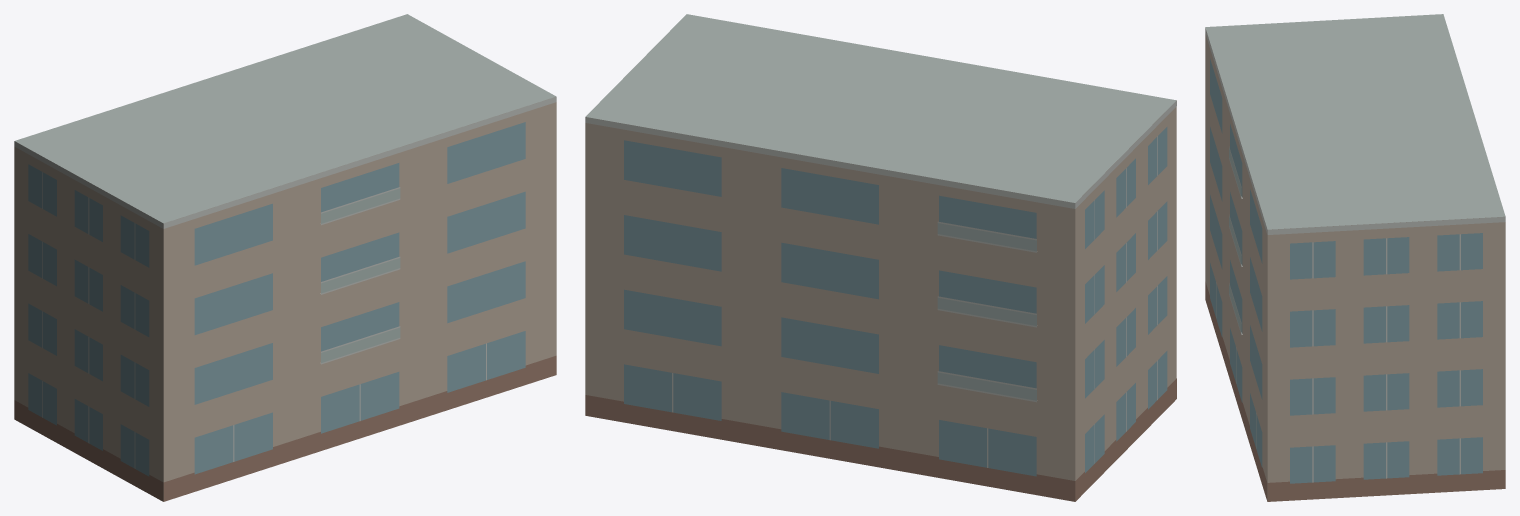
The model's file is residential-ebe94de4-6f33-4a02-9383-75baa3b18a46.glb.
3 renders of one model, left to right at view 1: azimuth 30°, elevation 25°; view 2: azimuth 150°, elevation 25°; view 3: azimuth 270°, elevation 25°, orthographic. The views are drawn at different scales.
Visible parts, largest first — view 1: residential-ebe94de4-6f33-4a02-9383-75baa3b18a46.tmp; view 2: residential-ebe94de4-6f33-4a02-9383-75baa3b18a46.tmp; view 3: residential-ebe94de4-6f33-4a02-9383-75baa3b18a46.tmp.
Boxes of the visible parts, bbox=[...] form: residential-ebe94de4-6f33-4a02-9383-75baa3b18a46.tmp: bbox=[14, 14, 556, 501]; residential-ebe94de4-6f33-4a02-9383-75baa3b18a46.tmp: bbox=[585, 14, 1176, 501]; residential-ebe94de4-6f33-4a02-9383-75baa3b18a46.tmp: bbox=[1205, 14, 1505, 501].
Bounding box in the file's own units: 20.74 × 12.2 × 12.21.
